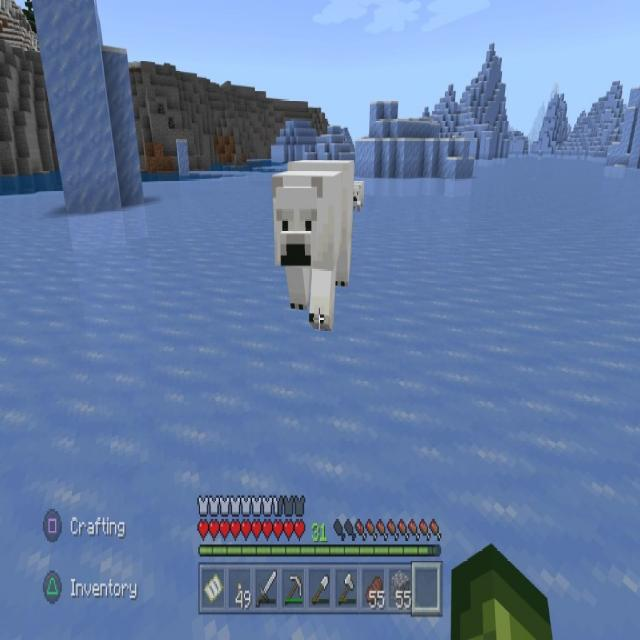Polar Bear: (270, 156, 356, 334), (350, 179, 365, 212)
